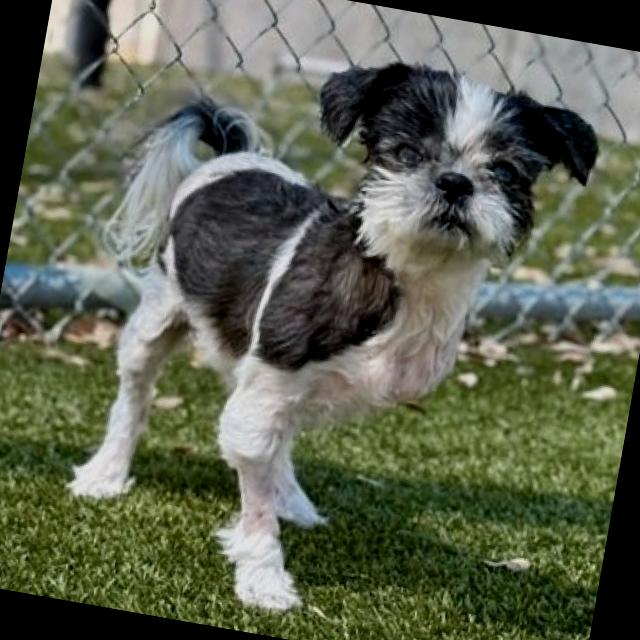shih_tzu_dog: (286, 32, 616, 308)
